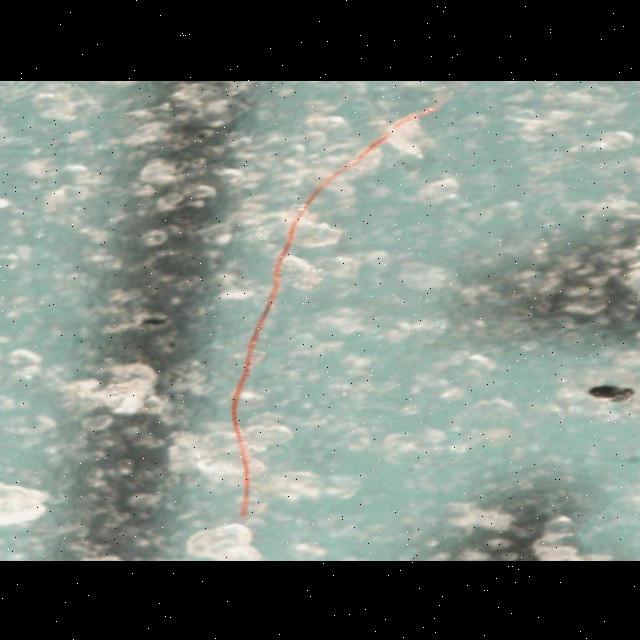Fibre: (229, 104, 445, 518)
